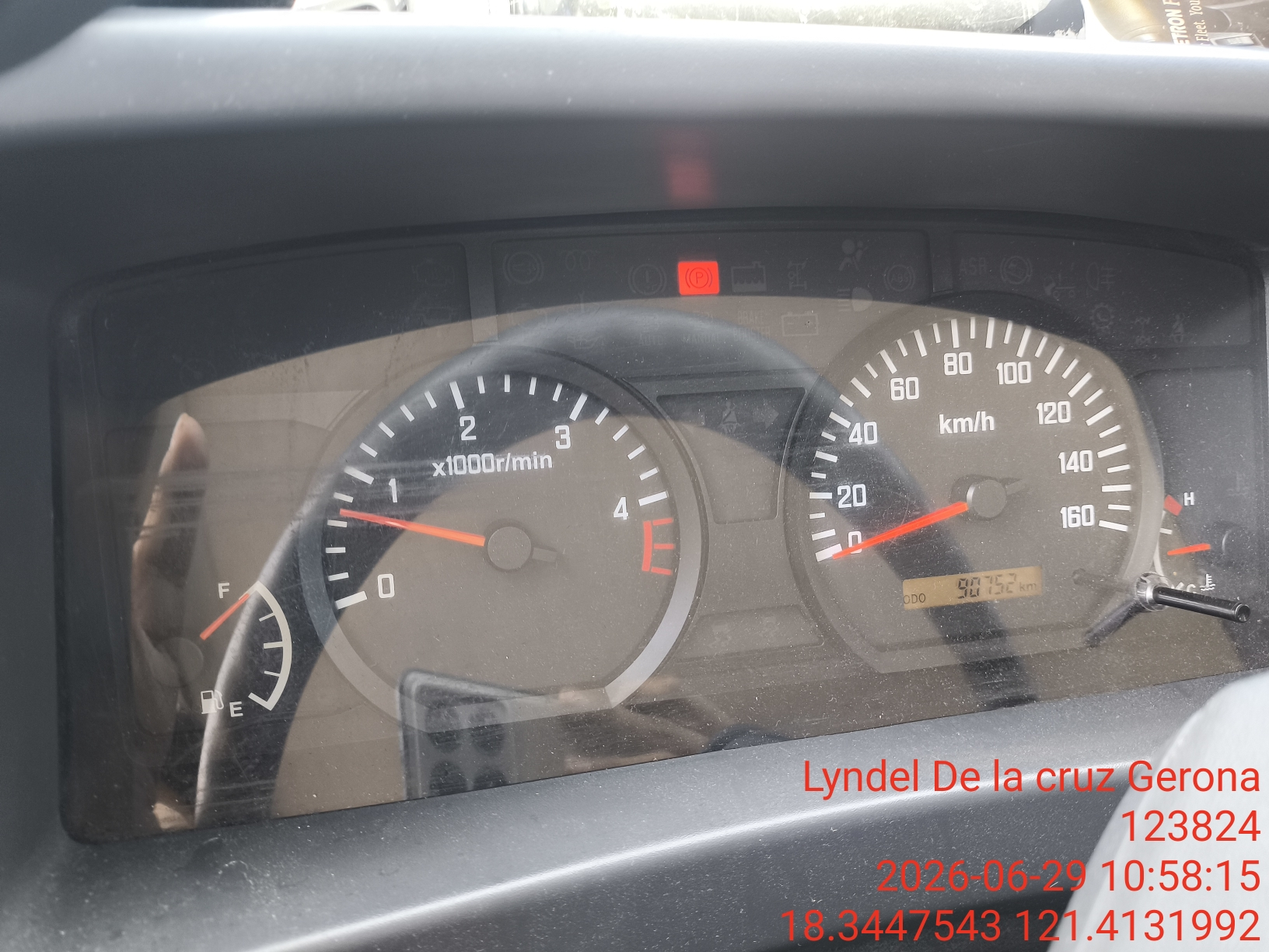pointer_pose: (158, 0, 268, 708)
